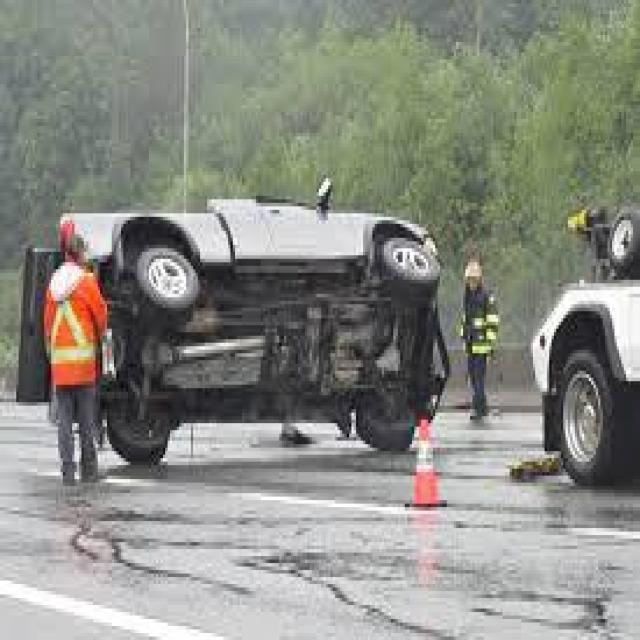severe: (16, 172, 449, 466)
